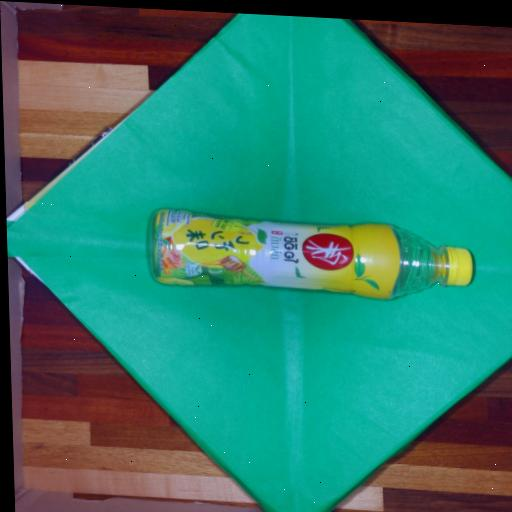bottle: (150, 209, 472, 299)
